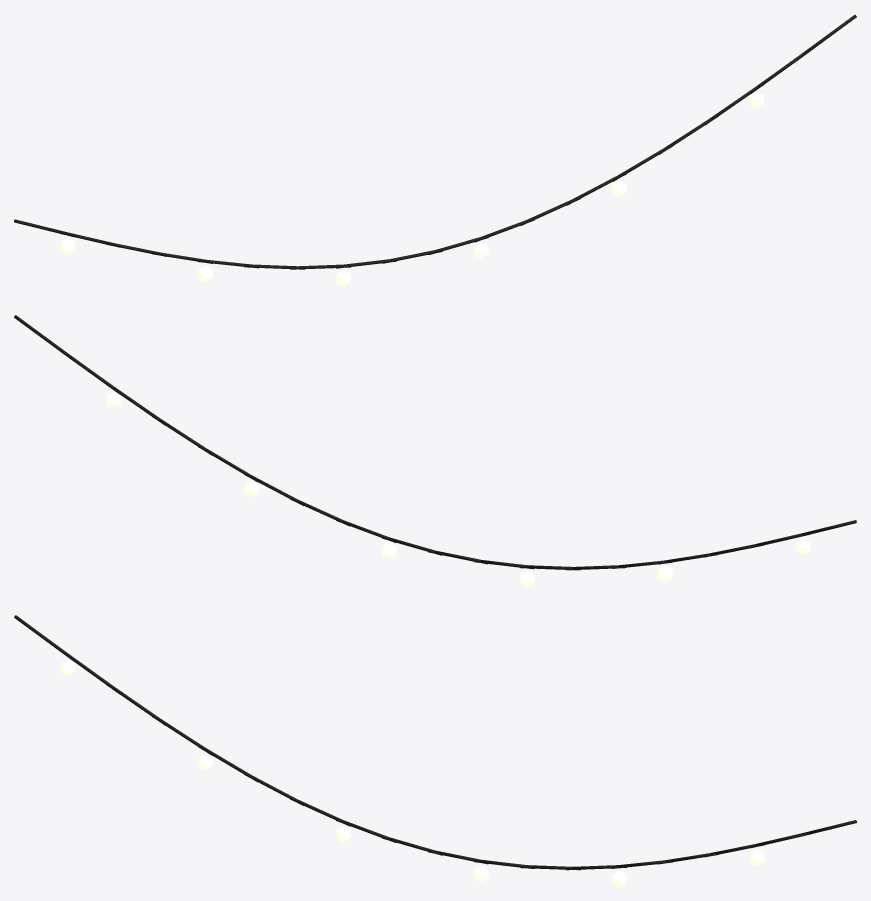
Rendered from girlande.glb.
3 views of the same model, one above another, from view 1: azimuth 30°, elevation 25°; view 2: azimuth 150°, elevation 25°; view 3: azimuth 330°, elevation 25° (orthographic).
Visible parts, largest first — view 1: girlande; view 2: girlande; view 3: girlande.
Boxes of the visible parts, x1,y1,x2,y2 form: girlande: (14,15,856,286); girlande: (14,315,856,586); girlande: (14,615,856,886).
Size of the model in its own units: 6.11 by 1.06 by 0.0936.
